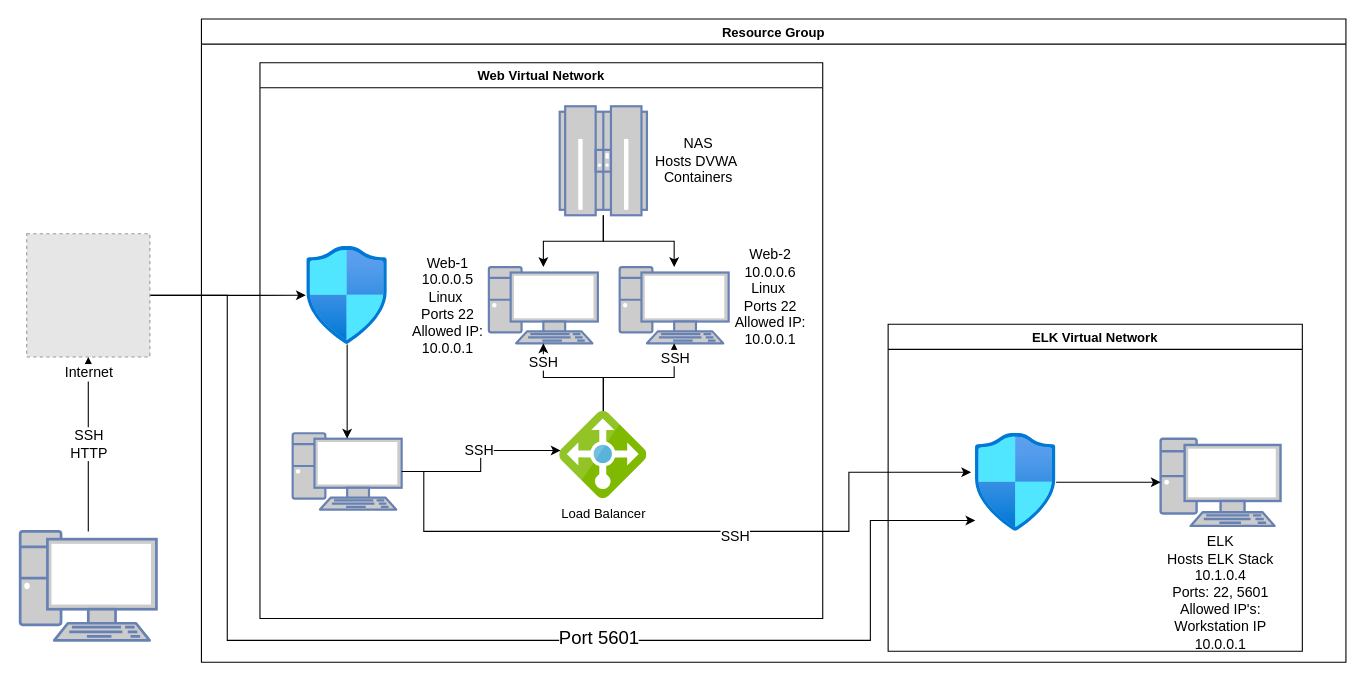
Image size: 1365x685. Some labels were removed from this diagram. Grey dashed boxes stand in for pictures. The centre of each missing label's shape, as x and y in pixels:
"ELK Security Group" belongs at point (1015, 482).
"Jumpbox Provisioner 10.0.0.1 LInux Ports: 22 Allowed IP: Workstation IP" belongs at point (346, 471).
"Security Group" belongs at point (346, 295).
"Workstation" belongs at point (88, 585).
